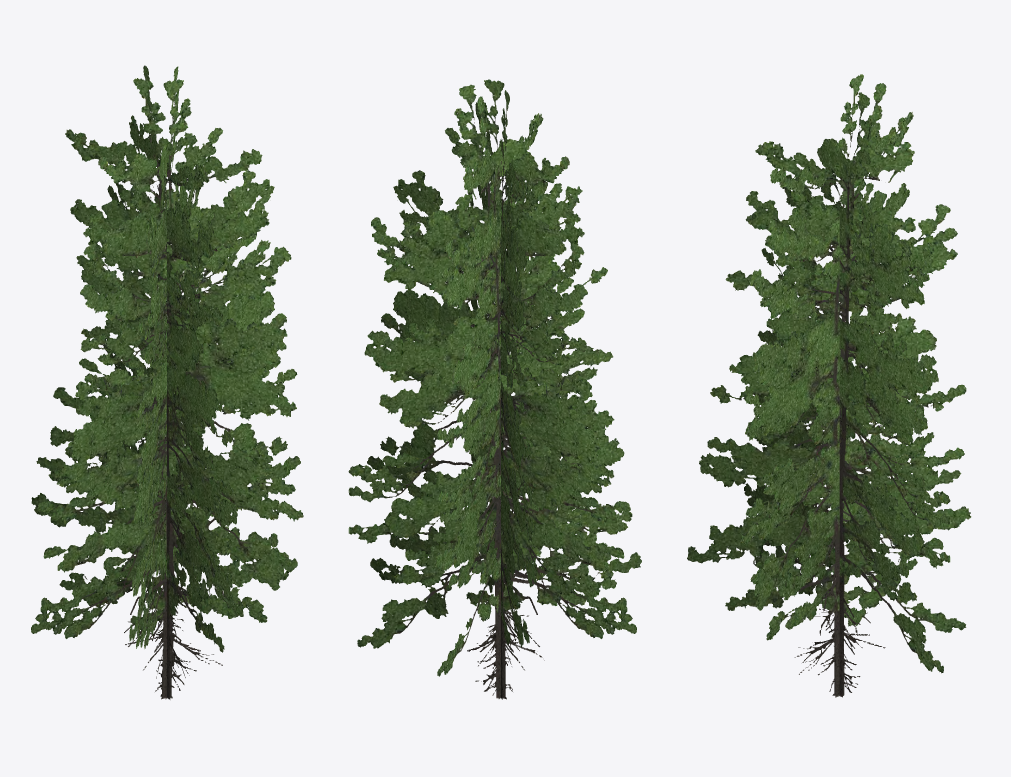
File: pinesap_a_bb.glb
3 views of the same model, side by side, from view 1: azimuth 30°, elevation 25°; view 2: azimuth 150°, elevation 25°; view 3: azimuth 270°, elevation 25° (orthographic).
Visible parts, largest first — view 1: pinesap_a_billboard; view 2: pinesap_a_billboard; view 3: pinesap_a_billboard.
Part boxes in pixels (x1=…): pinesap_a_billboard: x1=31, y1=65, x2=303, y2=699; pinesap_a_billboard: x1=348, y1=79, x2=641, y2=699; pinesap_a_billboard: x1=687, y1=74, x2=971, y2=697.
Size of the model in its own units: 5.25 by 11.33 by 5.25.
1 material, 1 textured.
